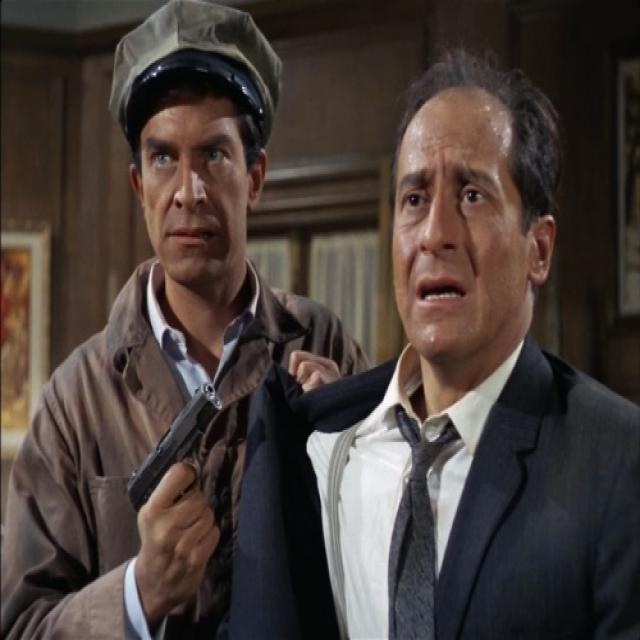weapons: (118, 373, 240, 552)
